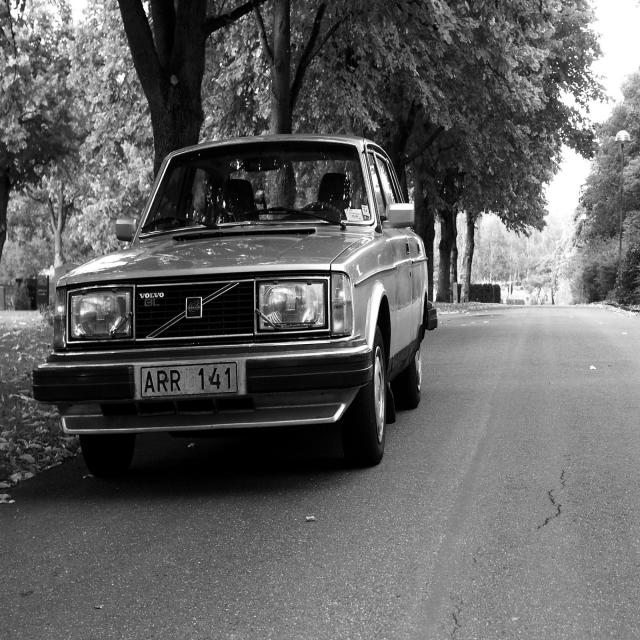car: (32, 133, 438, 476)
plat_license: (138, 360, 239, 398)
